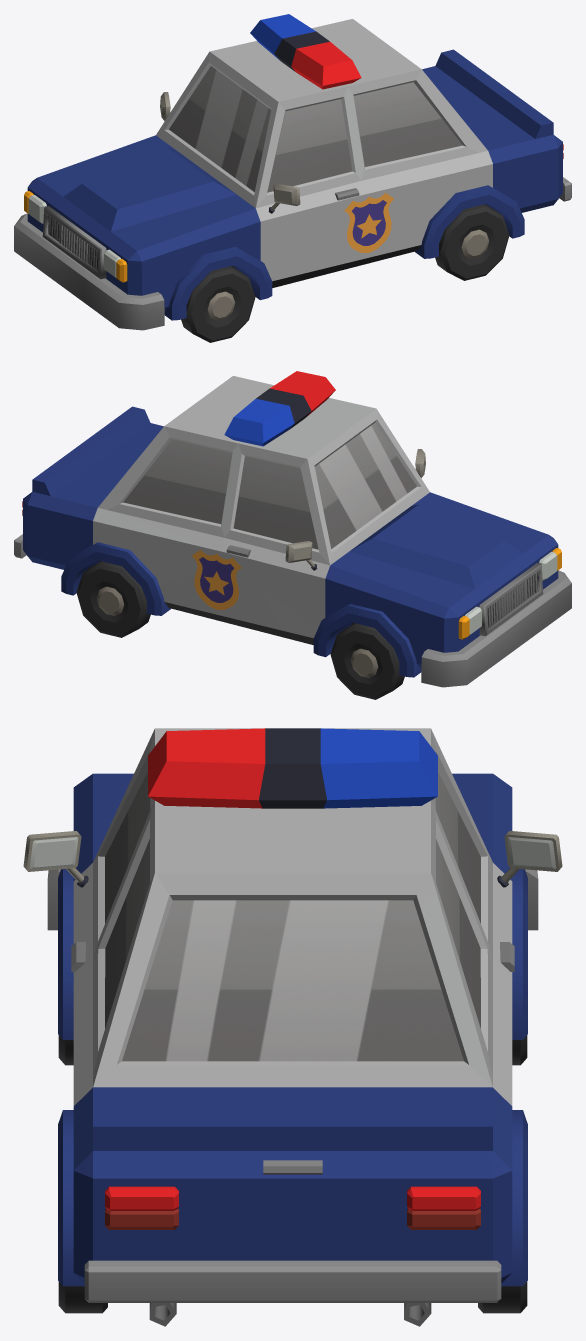
The model's file is Car_Police_1_B_1.gltf.
3 views of the same model, one above another, from view 1: azimuth 30°, elevation 25°; view 2: azimuth 150°, elevation 25°; view 3: azimuth 270°, elevation 25° (orthographic). The views are drawn at different scales.
Visible parts, largest first — view 1: Car_Police_1_B_1, RL, FL; view 2: Car_Police_1_B_1, RR, FR; view 3: Car_Police_1_B_1, RL, RR.
Part boxes in pixels (x1,y1,x2,y2): Car_Police_1_B_1: (14, 14, 571, 330); RL: (435, 204, 509, 280); FL: (181, 266, 255, 342); Car_Police_1_B_1: (14, 371, 571, 687); RR: (76, 561, 150, 637); FR: (330, 623, 404, 699); Car_Police_1_B_1: (23, 728, 562, 1326); RL: (58, 1281, 107, 1313); RR: (478, 1281, 527, 1313).
Bounding box in the file's own units: 3.47 × 1.64 × 1.78.
3 materials, 3 textured.
